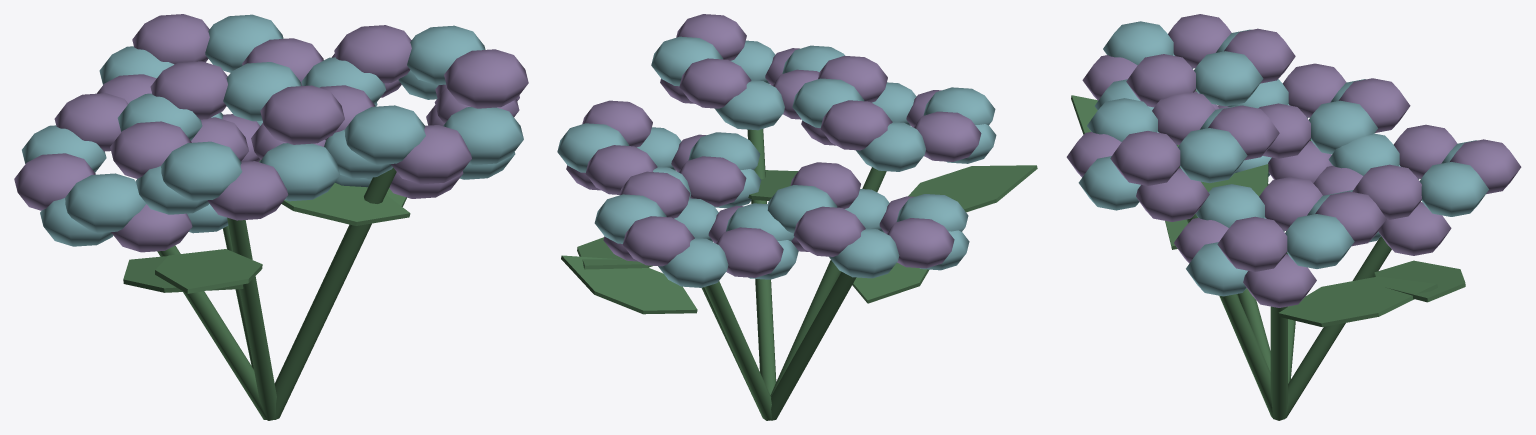
Rendered from almanac-gardens-hydrangea-bush-c42f9598__22043.glb.
3 views of the same model, side by side, from view 1: azimuth 30°, elevation 25°; view 2: azimuth 150°, elevation 25°; view 3: azimuth 270°, elevation 25° (orthographic). The views are drawn at different scales.
Visible parts, largest first — view 1: hydrangea-bush-purple, hydrangea-bush-blue, hydrangea-bush-leaf; view 2: hydrangea-bush-purple, hydrangea-bush-blue, hydrangea-bush-leaf; view 3: hydrangea-bush-purple, hydrangea-bush-blue, hydrangea-bush-leaf.
Boxes of the visible parts, x1=… form: hydrangea-bush-purple: x1=14, y1=14, x2=528, y2=252; hydrangea-bush-blue: x1=22, y1=14, x2=523, y2=246; hydrangea-bush-leaf: x1=123, y1=160, x2=410, y2=420; hydrangea-bush-purple: x1=566, y1=14, x2=981, y2=277; hydrangea-bush-blue: x1=557, y1=36, x2=996, y2=287; hydrangea-bush-leaf: x1=561, y1=129, x2=1037, y2=420; hydrangea-bush-purple: x1=1066, y1=14, x2=1521, y2=307; hydrangea-bush-blue: x1=1078, y1=21, x2=1488, y2=296; hydrangea-bush-leaf: x1=1071, y1=90, x2=1465, y2=420.
Bounding box in the file's own units: 0.9042 × 0.7028 × 0.8425.
